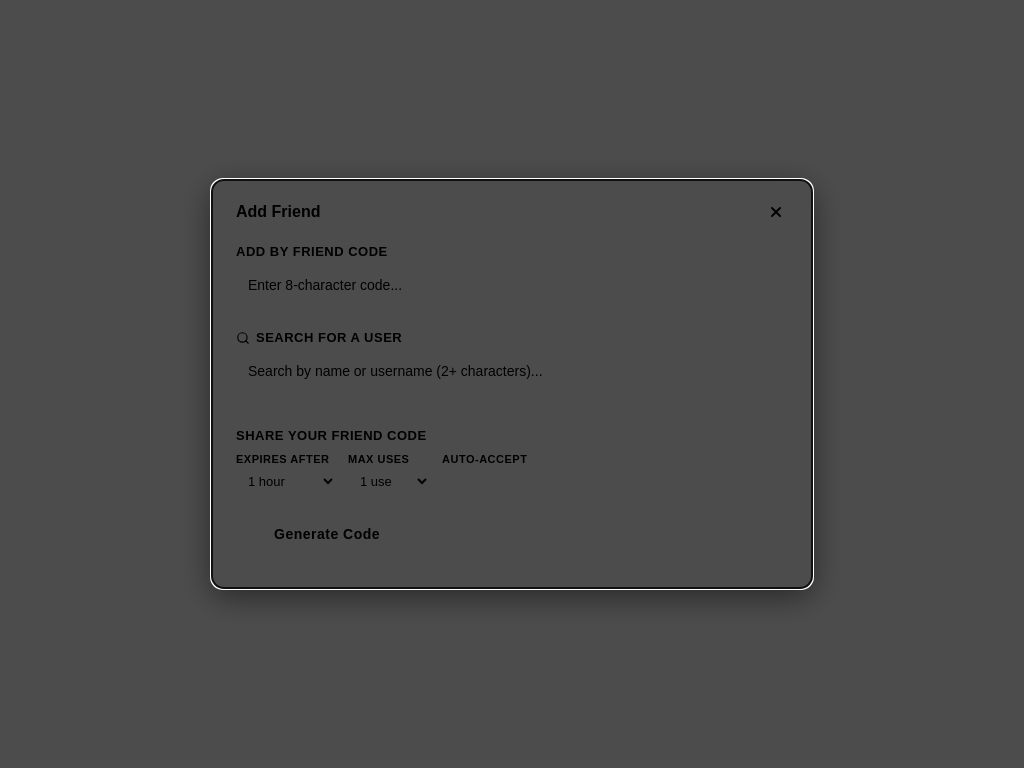
Test: AddFriendModal › claims friend code and shows success
The width and height of the screenshot is (1024, 768).
Type "ABCD1234" into the field with placeholder "Enter 8-character code..." at (512, 285), box [236,269,788,301]
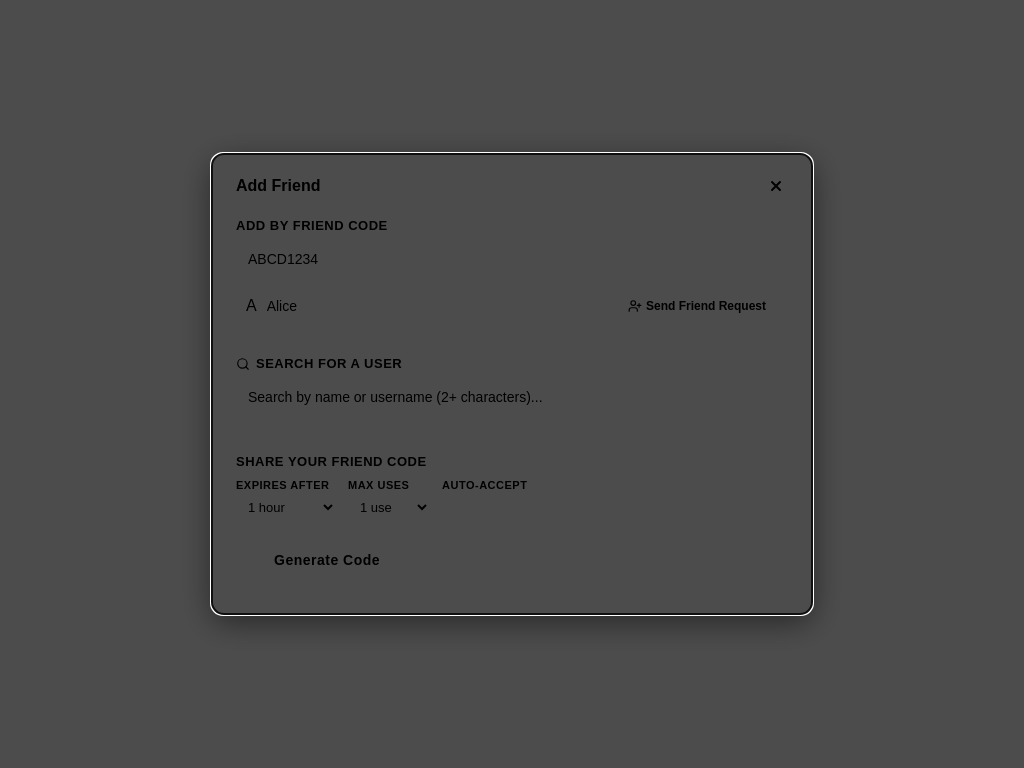
Result: the button "Send Friend Request" is shown
Click the button "Send Friend Request" at (697, 306), box [616,293,778,319]
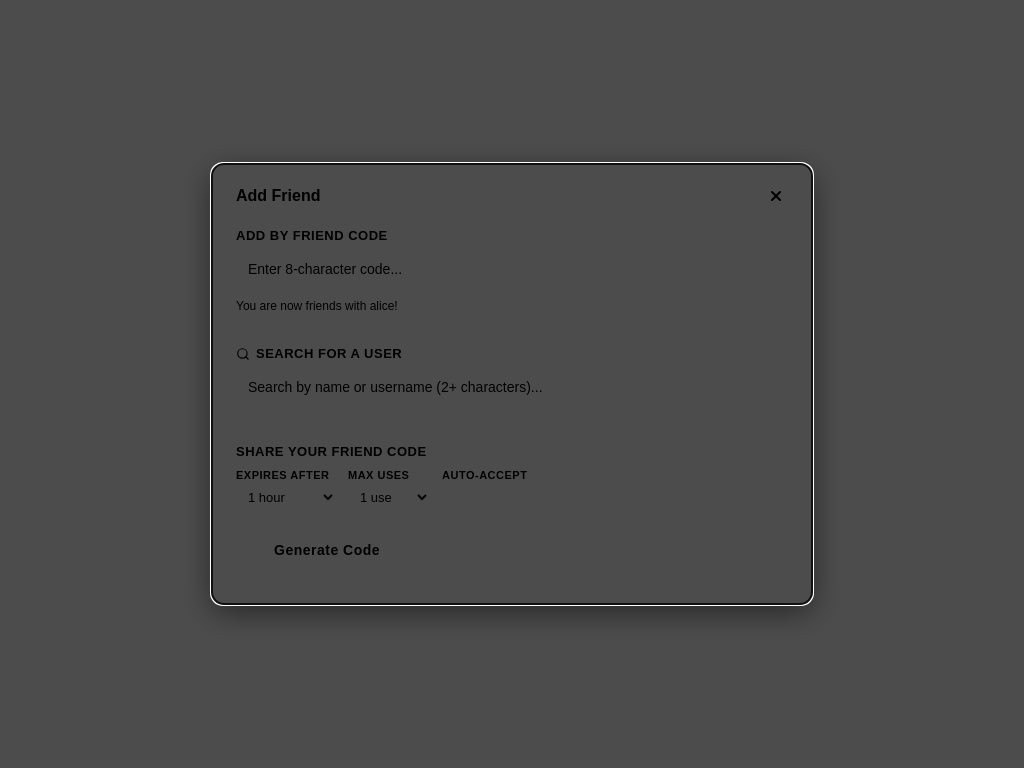
Result: the text "You are now friends with alice!" is shown at [236,299,398,313]
